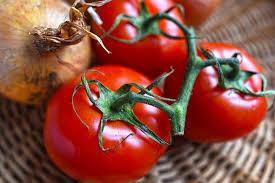tomato: (45, 64, 169, 178), (177, 39, 263, 138), (94, 2, 188, 76)
